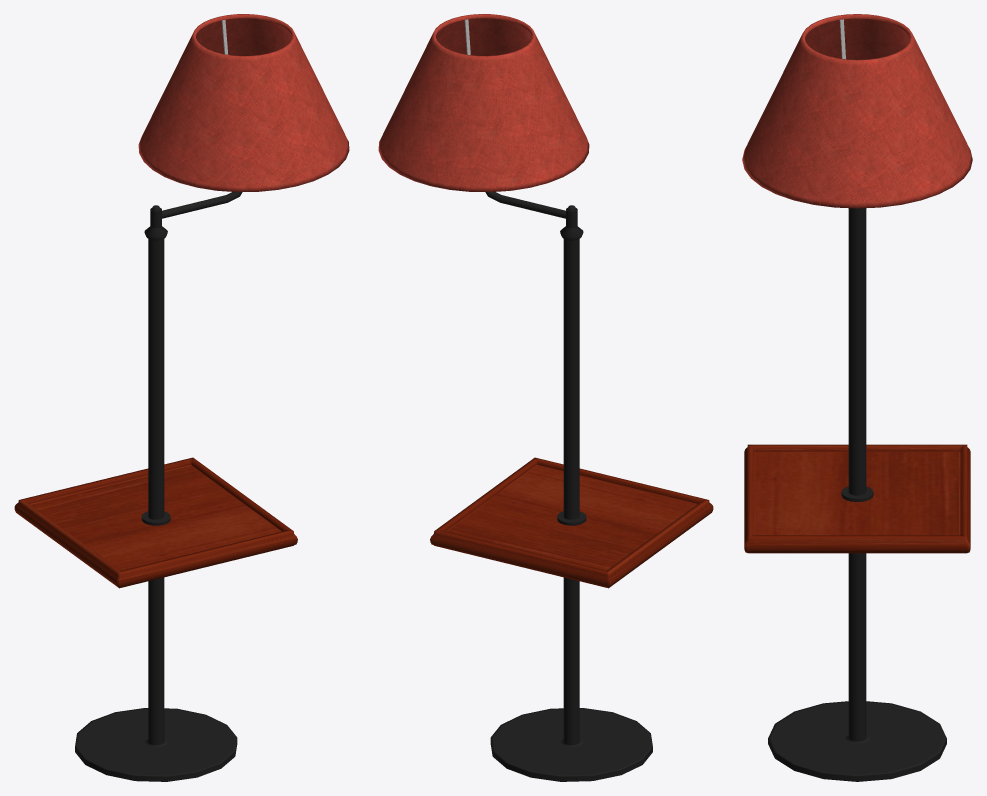
Rendered from living_lamp.obj.
3 views of the same model, side by side, from view 1: azimuth 30°, elevation 25°; view 2: azimuth 150°, elevation 25°; view 3: azimuth 270°, elevation 25° (orthographic). The views are drawn at different scales.
Visible parts, largest first — view 1: shade.001_Circle, littletable.001_Plane.002, bae.001_Cylinder.001; view 2: shade.001_Circle, littletable.001_Plane.002, bae.001_Cylinder.001; view 3: shade.001_Circle, littletable.001_Plane.002, bae.001_Cylinder.001.
Part boxes in pixels (bbox=[...]): shade.001_Circle: bbox=[138, 14, 349, 192]; littletable.001_Plane.002: bbox=[14, 457, 297, 588]; bae.001_Cylinder.001: bbox=[75, 192, 242, 781]; shade.001_Circle: bbox=[378, 14, 589, 192]; littletable.001_Plane.002: bbox=[430, 457, 713, 588]; bae.001_Cylinder.001: bbox=[485, 192, 652, 781]; shade.001_Circle: bbox=[742, 14, 972, 208]; littletable.001_Plane.002: bbox=[744, 444, 970, 553]; bae.001_Cylinder.001: bbox=[768, 208, 946, 781].
Bounding box in the file's own units: 58.29 × 143 × 39.65.
Materials: 5 (2 with a texture image).
